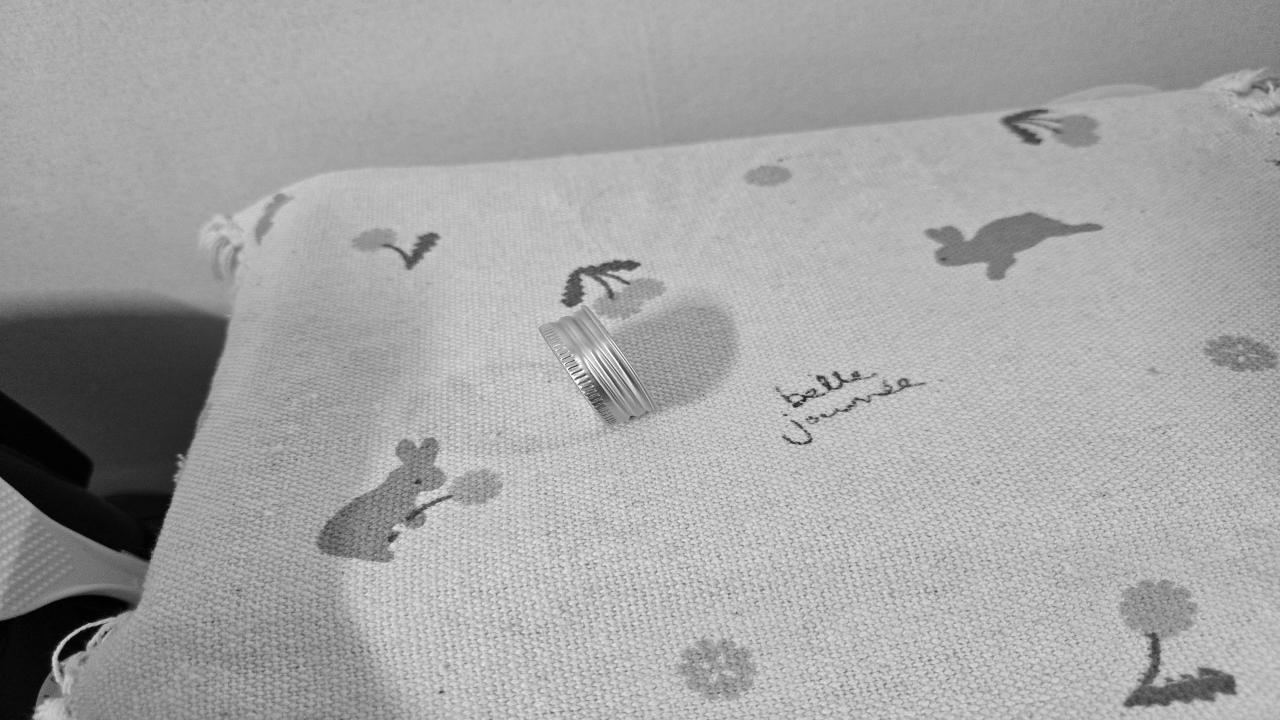bottle_cap: (546, 308, 656, 428)
